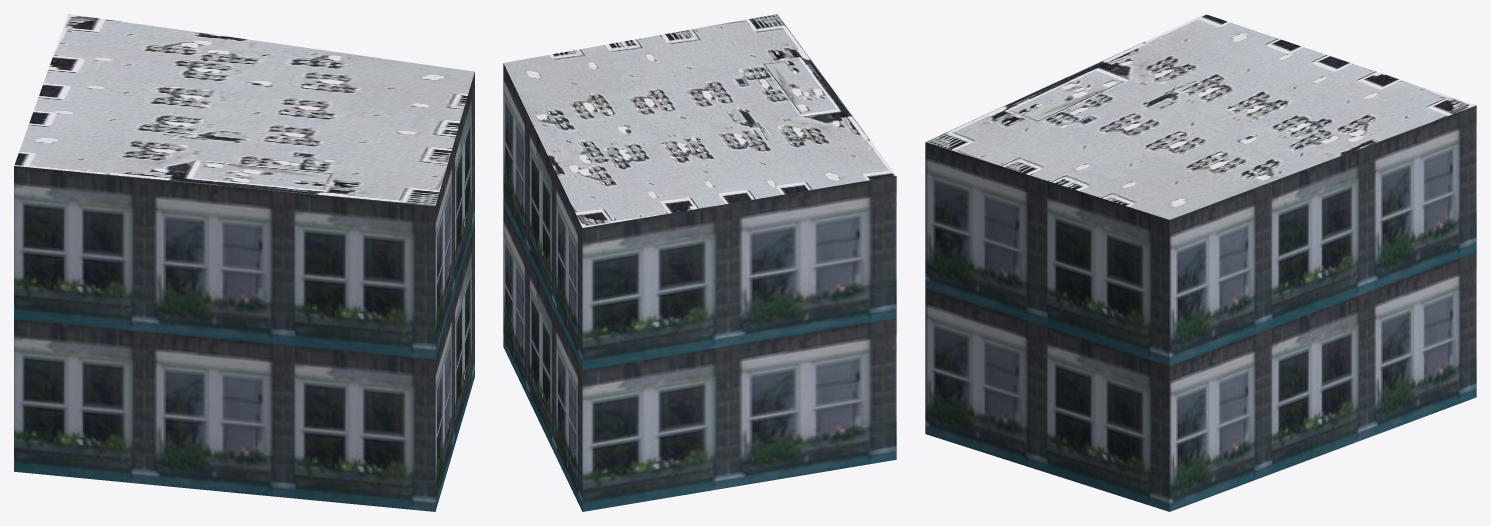
The model's file is ResTex__2754.fbx.
3 renders of one model, left to right at view 1: azimuth 30°, elevation 25°; view 2: azimuth 150°, elevation 25°; view 3: azimuth 270°, elevation 25°, orthographic. The views are drawn at different scales.
Visible parts, largest first — view 1: CityEngineMaterial_11_m, CityEngineMaterial_m; view 2: CityEngineMaterial_11_m, CityEngineMaterial_m; view 3: CityEngineMaterial_11_m, CityEngineMaterial_m.
Part boxes in pixels (left/top/right/bottom): CityEngineMaterial_11_m: left=14, top=72, right=474, bottom=511; CityEngineMaterial_m: left=14, top=14, right=474, bottom=205; CityEngineMaterial_11_m: left=503, top=63, right=896, bottom=511; CityEngineMaterial_m: left=503, top=14, right=896, bottom=227; CityEngineMaterial_11_m: left=925, top=105, right=1476, bottom=511; CityEngineMaterial_m: left=926, top=14, right=1475, bottom=219.
Bounding box in the file's own units: 9.08 × 6 × 10.26.
Materials: 2 (2 with a texture image).
